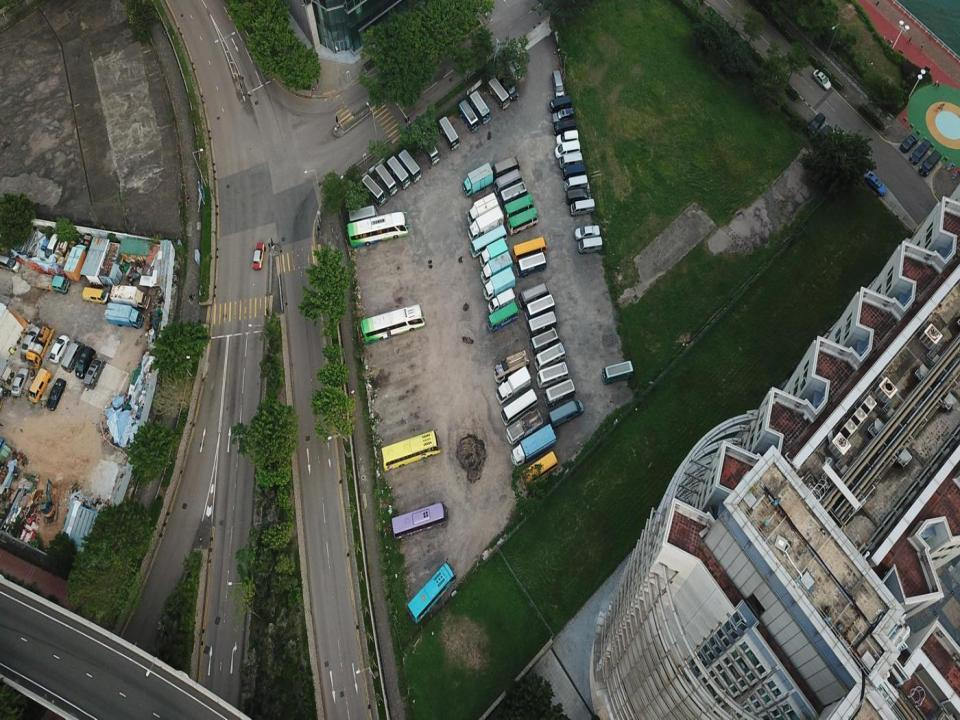bus: (407, 558, 456, 624), (360, 302, 426, 344), (380, 430, 441, 470), (346, 211, 410, 247), (392, 502, 448, 540), (521, 449, 558, 489), (501, 388, 537, 426), (470, 224, 507, 258), (486, 300, 518, 332), (543, 378, 576, 407), (534, 342, 567, 371), (529, 327, 561, 356), (513, 237, 548, 263), (508, 206, 538, 236), (503, 195, 535, 223), (536, 362, 570, 388), (397, 149, 422, 184), (526, 311, 557, 339), (387, 154, 410, 190), (499, 181, 528, 209), (524, 293, 554, 320), (494, 168, 523, 195), (491, 155, 520, 182), (437, 116, 460, 150), (519, 283, 549, 309), (516, 251, 546, 277), (375, 162, 397, 197), (362, 174, 386, 206), (468, 90, 490, 124), (603, 360, 634, 384), (419, 131, 440, 165), (487, 76, 509, 108), (459, 99, 479, 133), (348, 206, 378, 223)
car: (45, 378, 67, 411), (49, 335, 69, 363), (11, 368, 29, 397), (865, 172, 887, 195), (813, 68, 831, 90), (900, 134, 918, 154), (252, 242, 264, 270), (816, 124, 832, 143)
truck: (510, 423, 556, 469), (495, 365, 532, 404), (505, 407, 542, 445), (494, 348, 530, 384), (25, 324, 54, 368), (480, 250, 513, 285), (482, 267, 515, 301), (462, 162, 493, 198), (63, 243, 91, 282), (466, 192, 498, 224), (105, 302, 143, 328), (110, 285, 150, 309), (479, 236, 508, 267), (34, 272, 69, 294), (488, 287, 515, 314), (573, 226, 600, 240)
van: (549, 399, 584, 428), (29, 368, 51, 404), (61, 340, 84, 372), (83, 358, 106, 388), (76, 346, 96, 379), (918, 150, 942, 177), (497, 75, 519, 100), (908, 140, 930, 165), (82, 287, 110, 305), (44, 234, 63, 260), (566, 187, 591, 206), (555, 141, 581, 159), (807, 112, 826, 136), (579, 236, 602, 255), (571, 197, 594, 216), (551, 68, 565, 99), (559, 152, 583, 170), (562, 163, 586, 181), (564, 174, 588, 192), (549, 95, 571, 113), (0, 254, 20, 273), (553, 118, 575, 135), (556, 129, 578, 146), (552, 107, 573, 124)
